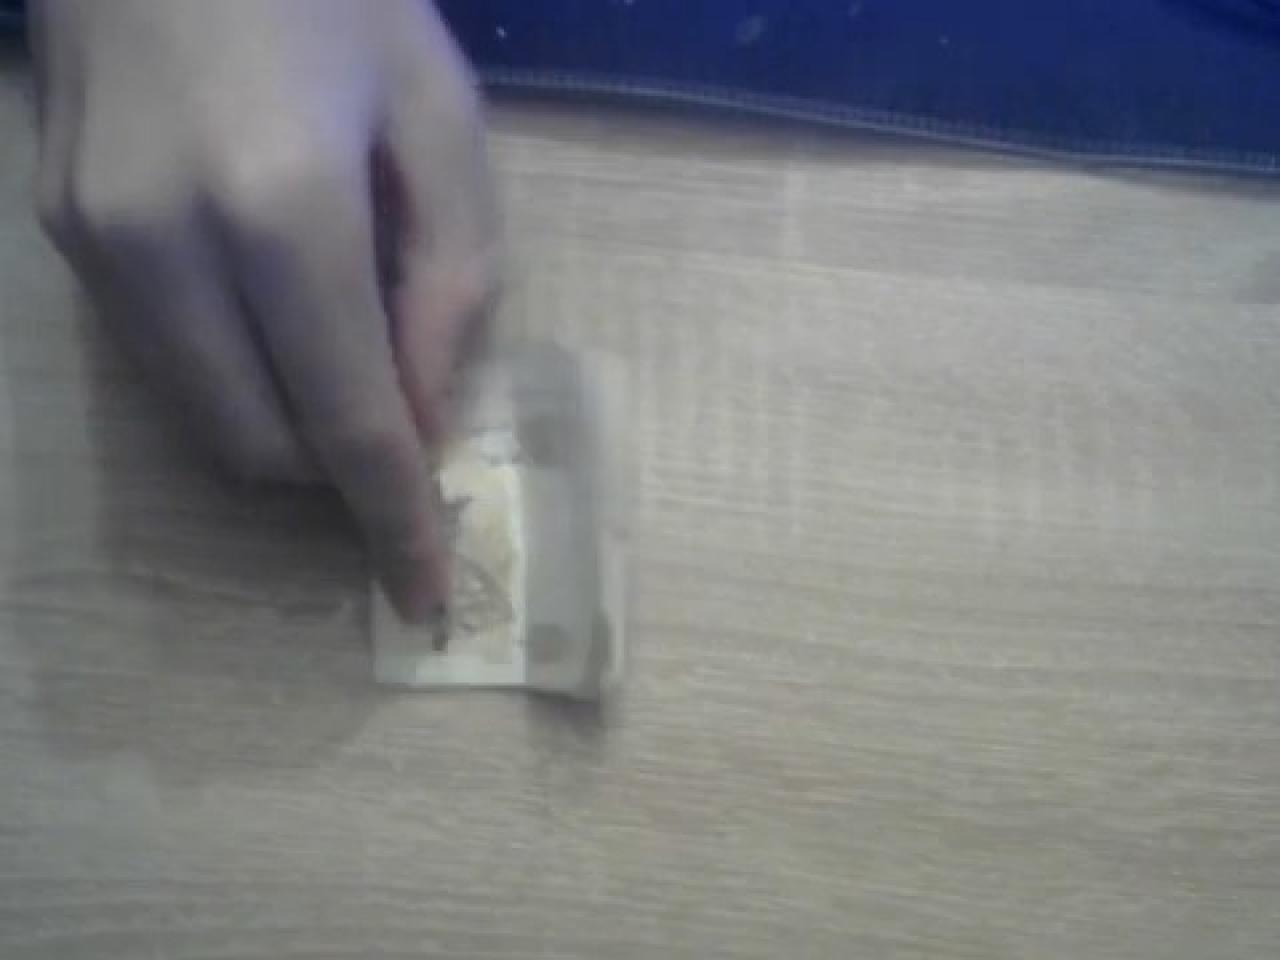10leva: (360, 331, 637, 707)
